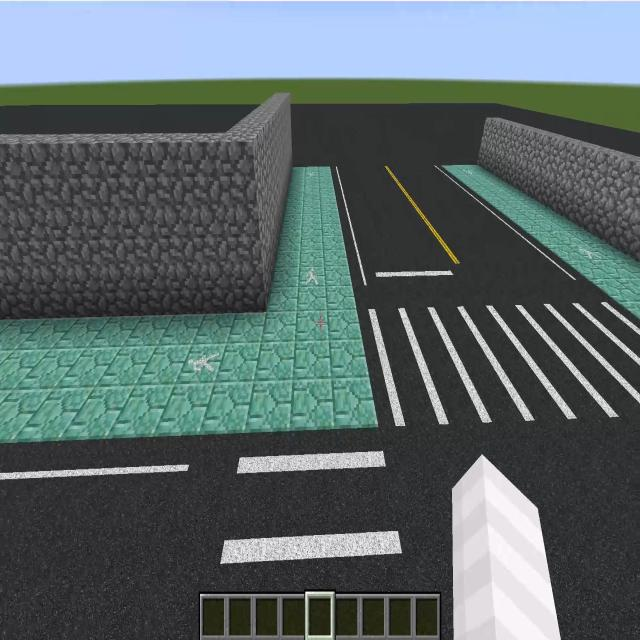crosswalk: (359, 303, 640, 429), (220, 434, 417, 598)
road: (294, 105, 640, 299), (384, 421, 640, 639), (0, 446, 240, 639)
sidewalk: (0, 167, 377, 442), (445, 165, 639, 318)
